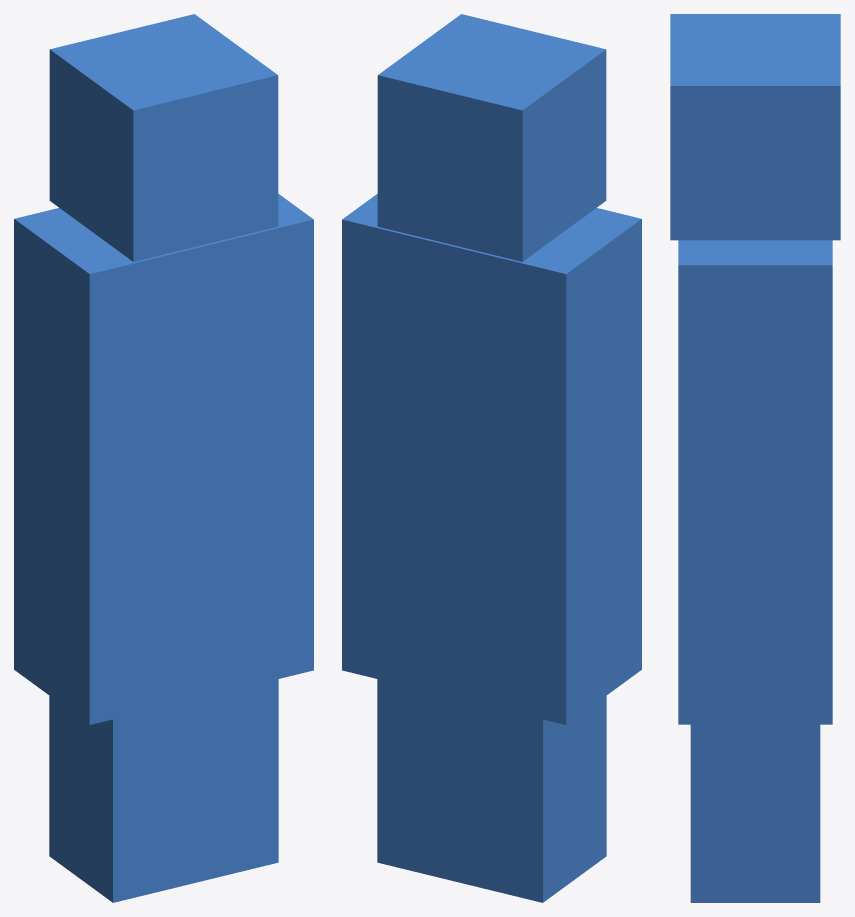
The model's file is player.gltf.
The picture shows the model from 3 angles, left to right: view 1: azimuth 30°, elevation 25°; view 2: azimuth 150°, elevation 25°; view 3: azimuth 270°, elevation 25°; orthographic projection.
Parts seen in each view (by area): view 1: Torso, Head, Legs; view 2: Torso, Head, Legs; view 3: Torso, Head, Legs.
Boxes of the visible parts, x1,y1,x2,y2 form: Torso: [14, 194, 313, 724]; Head: [49, 14, 278, 261]; Legs: [49, 679, 278, 902]; Torso: [342, 194, 641, 724]; Head: [377, 14, 606, 261]; Legs: [377, 679, 606, 902]; Torso: [678, 240, 832, 724]; Head: [670, 14, 840, 240]; Legs: [690, 724, 820, 902].
Size of the model in its own units: 0.65 by 2.21 by 0.42.
